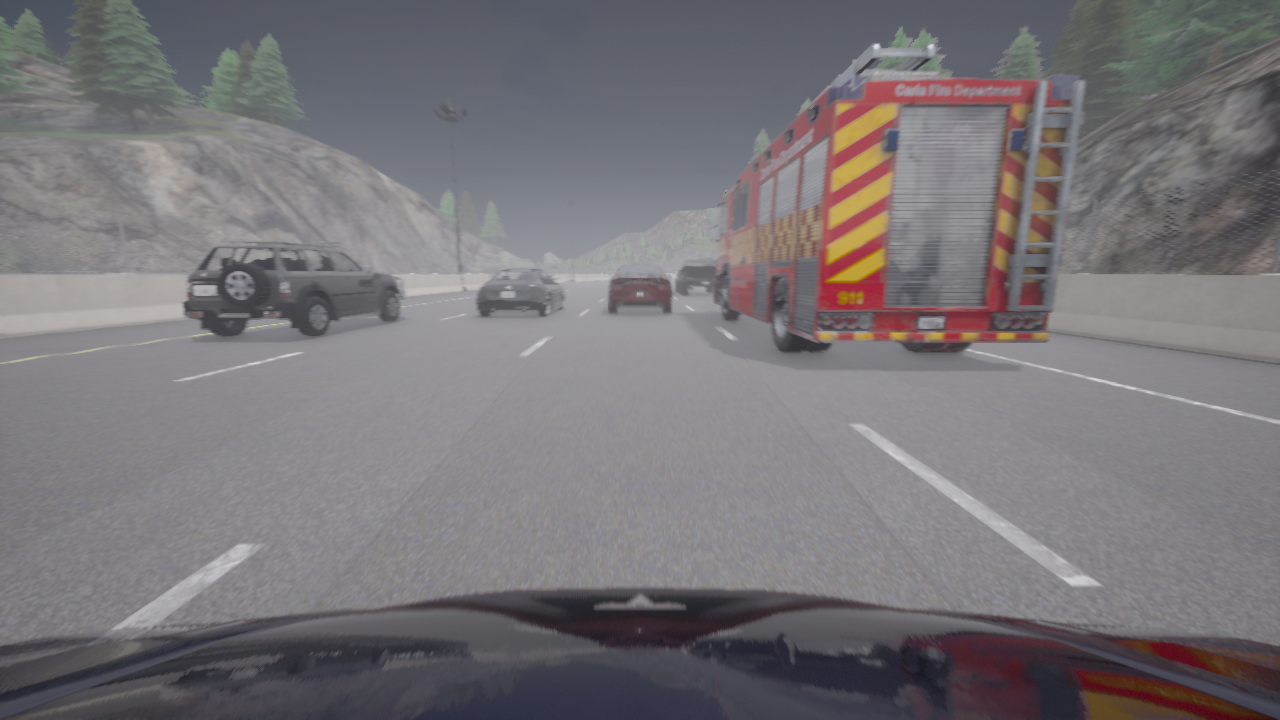cyclist: (0, 588, 1279, 719), (708, 44, 1084, 352), (181, 240, 404, 336), (475, 268, 565, 317), (609, 264, 671, 313), (675, 259, 716, 294), (689, 286, 691, 289), (550, 275, 552, 276)
